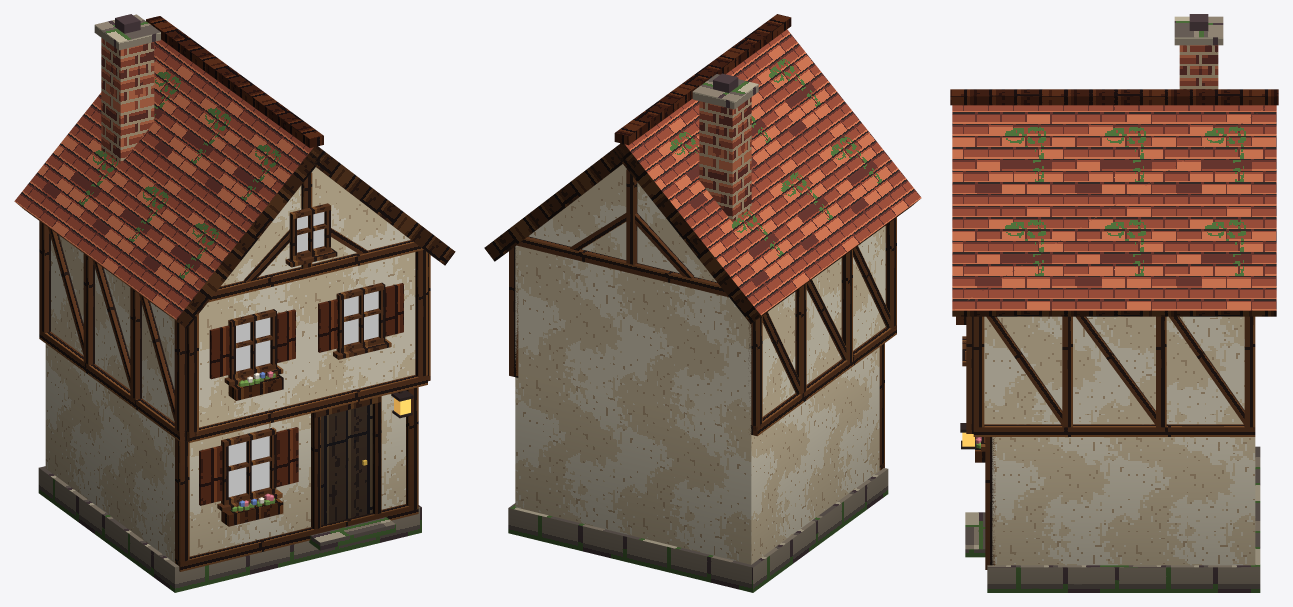
File: cottage_tall.glb
The picture shows the model from 3 angles, left to right: view 1: azimuth 30°, elevation 25°; view 2: azimuth 150°, elevation 25°; view 3: azimuth 270°, elevation 25°; orthographic projection.
Visible parts, largest first — view 1: cottage_tall; view 2: cottage_tall; view 3: cottage_tall.
Boxes of the visible parts, x1,y1,x2,y2 form: cottage_tall: (14, 14, 455, 592); cottage_tall: (484, 14, 921, 592); cottage_tall: (950, 14, 1278, 592).
Bounding box in the file's own units: 5.16 × 8.51 × 5.24.
Materials: 8 (5 with a texture image).
